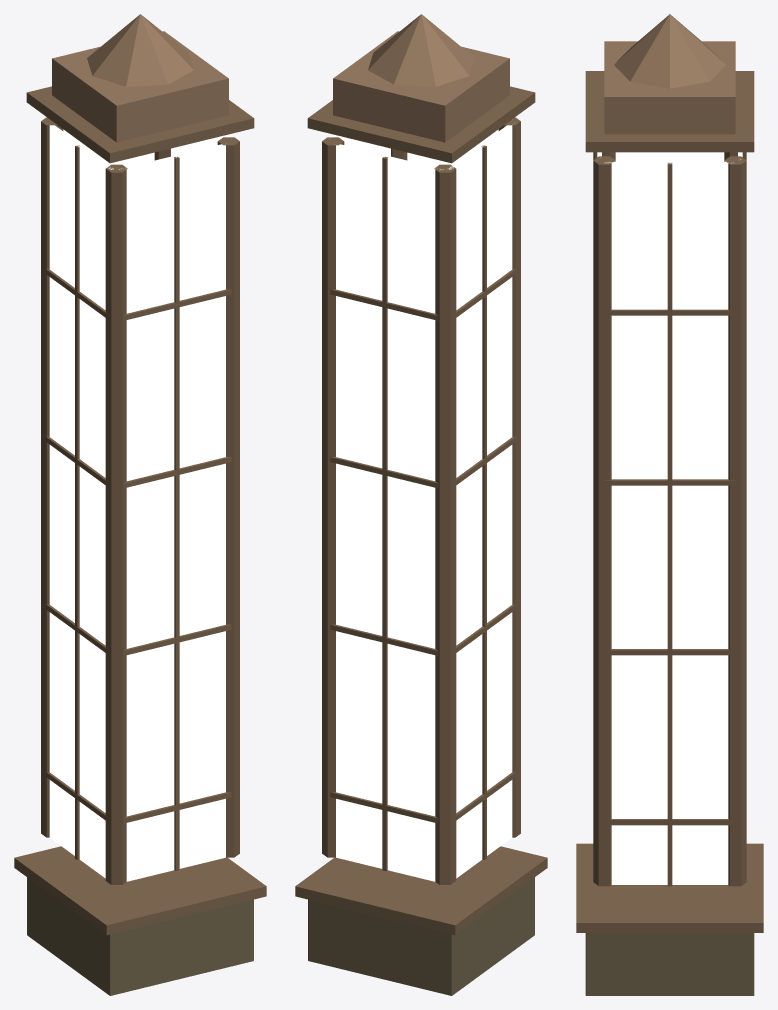
The model's file is shoji_lamp.glb.
The picture shows the model from 3 angles, left to right: view 1: azimuth 30°, elevation 25°; view 2: azimuth 150°, elevation 25°; view 3: azimuth 270°, elevation 25°; orthographic projection.
Visible parts, largest first — view 1: shoji_lamp; view 2: shoji_lamp; view 3: shoji_lamp.
Part boxes in pixels (<box>): shoji_lamp: <box>14,14,266,995</box>; shoji_lamp: <box>295,14,547,995</box>; shoji_lamp: <box>576,14,763,995</box>.
Size of the model in its own units: 0.2 by 1.12 by 0.2.
